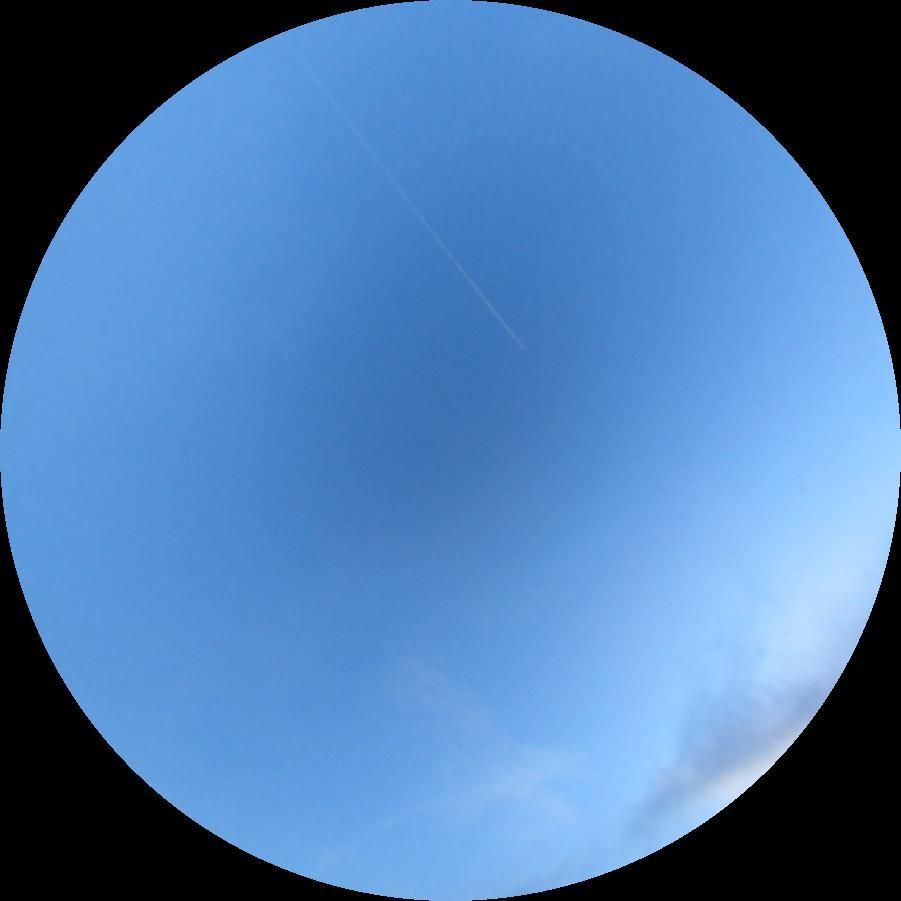contrail old: (316, 81, 526, 351)
